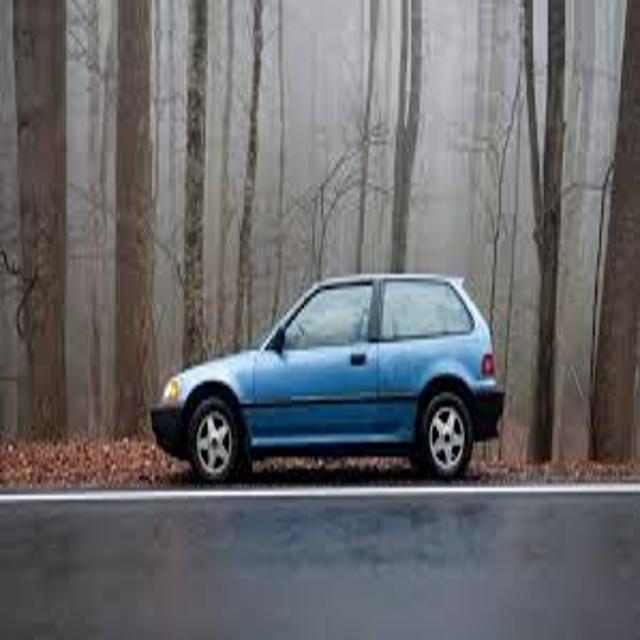car: (150, 274, 503, 479)
